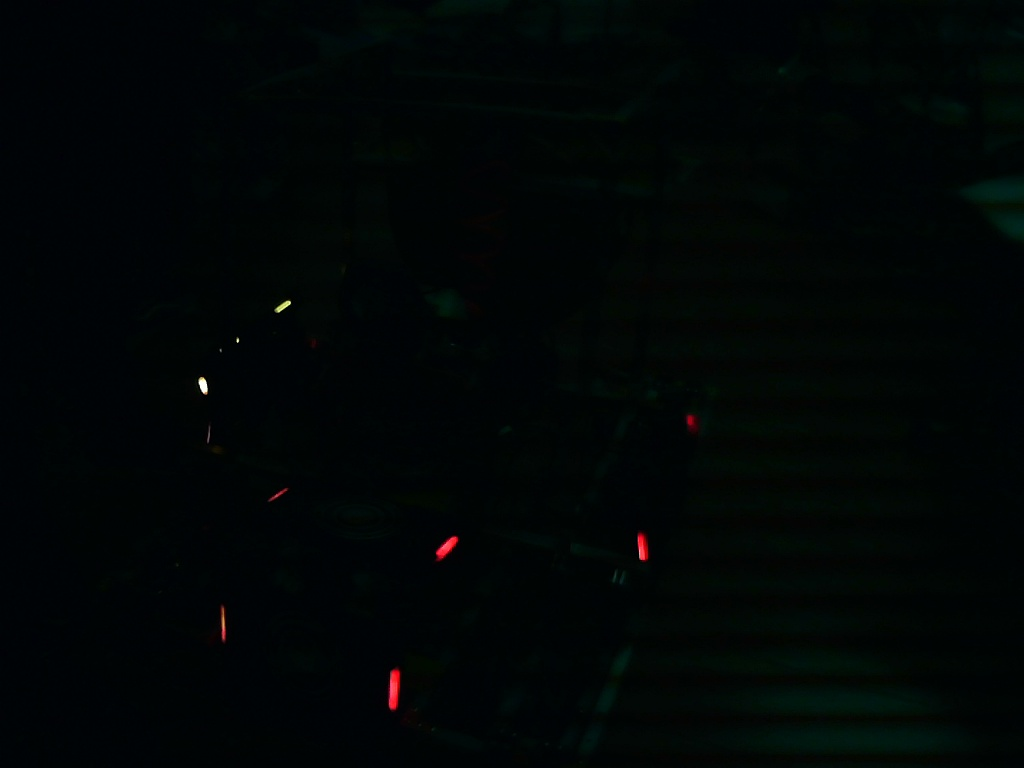lamp: (386, 665, 403, 716)
